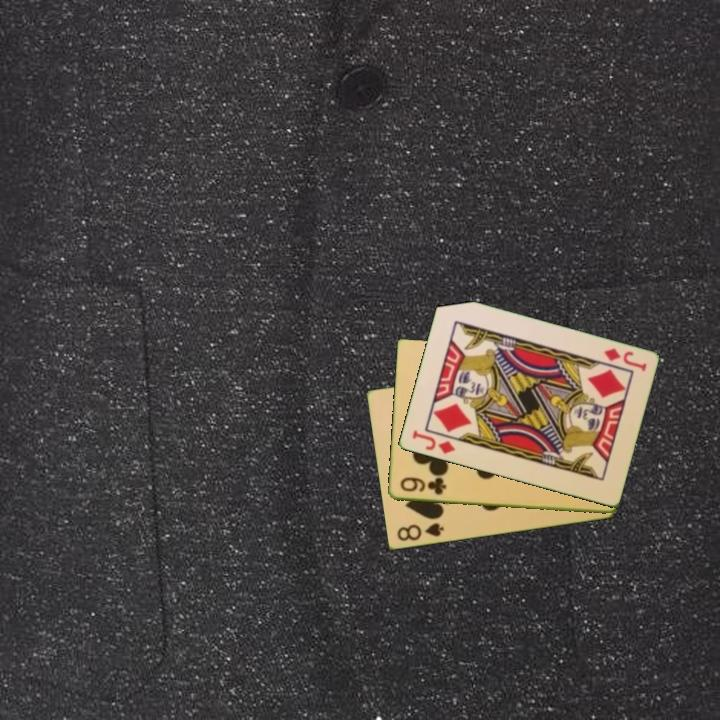8s: (393, 520, 447, 544)
9c: (397, 474, 449, 498)
Jd: (408, 427, 458, 457), (600, 345, 649, 374)
